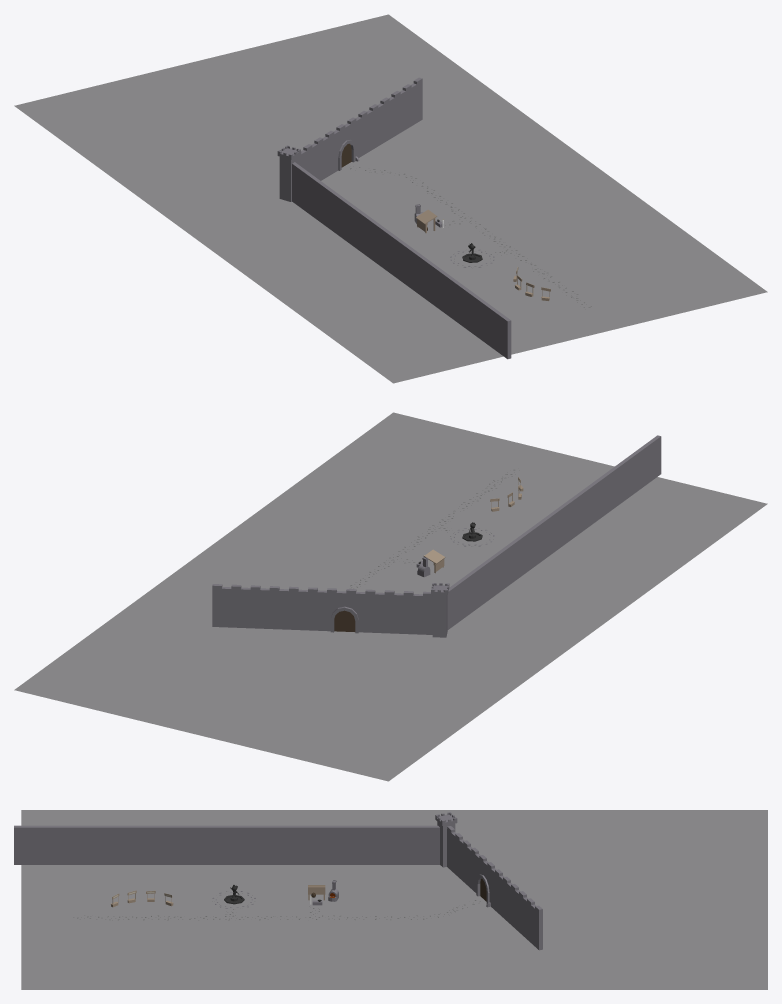
File: TownSquare_Scene.fbx
The picture shows the model from 3 angles, top to bottom: view 1: azimuth 30°, elevation 25°; view 2: azimuth 150°, elevation 25°; view 3: azimuth 270°, elevation 25°; orthographic projection.
Parts seen in each view (by area): view 1: ground, castleWall2, castleWall, tower, cobblesRoad; view 2: ground, castleWall2, castleWall, tower; view 3: ground, castleWall2, castleWall, cobblesRoad, tower.
Boxes of the visible parts, left/top/right/bottom form: ground: left=14, top=14, right=767, bottom=383; castleWall2: left=292, top=162, right=511, bottom=359; castleWall: left=299, top=77, right=422, bottom=180; tower: left=277, top=145, right=300, bottom=201; cobblesRoad: left=349, top=166, right=591, bottom=309; ground: left=14, top=412, right=767, bottom=781; castleWall2: left=447, top=435, right=661, bottom=629; castleWall: left=212, top=584, right=432, bottom=634; tower: left=431, top=583, right=449, bottom=637; ground: left=21, top=810, right=767, bottom=989; castleWall2: left=14, top=825, right=439, bottom=864; castleWall: left=447, top=826, right=542, bottom=950; cobblesRoad: left=73, top=900, right=480, bottom=920; tower: left=435, top=812, right=457, bottom=867.
Size of the model in its own units: 100 by 12.73 by 177.
